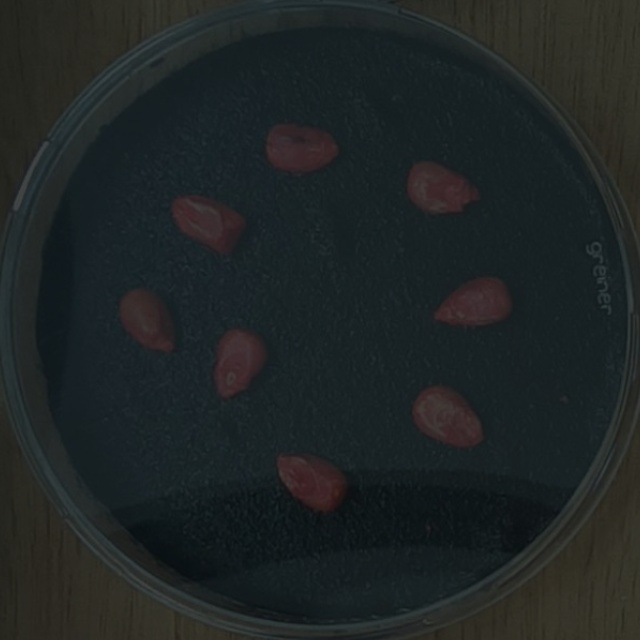Zea mays: (404, 375, 493, 455), (163, 186, 254, 259), (267, 442, 356, 516), (400, 151, 487, 222), (205, 318, 274, 407), (111, 279, 184, 360), (258, 113, 346, 180), (427, 267, 519, 331)
